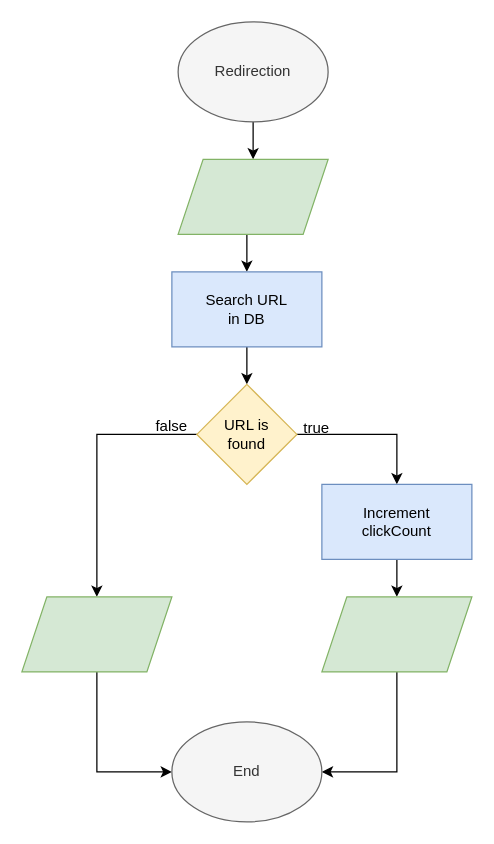
The diagram is 494 pixels wide and 844 high, and some of its shapes have lost their labels. The centre of each missing label's shape, as x and y in pixels:
Redirect to original URL: point 396,634
Return error 404: point 96,634
Shortened URL: point 252,196
